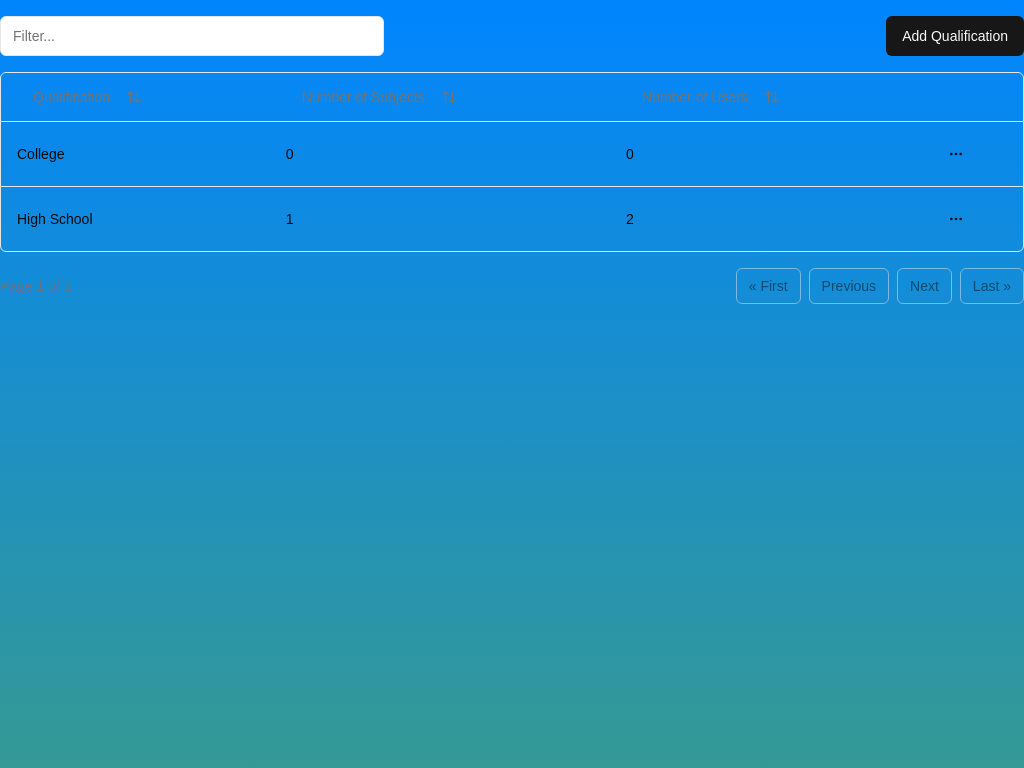
Test: Qualification Data Table › opens add qualification dialog on button click
Click the button "Add Qualification". click: [955, 36]
box: [886,16,1023,56]
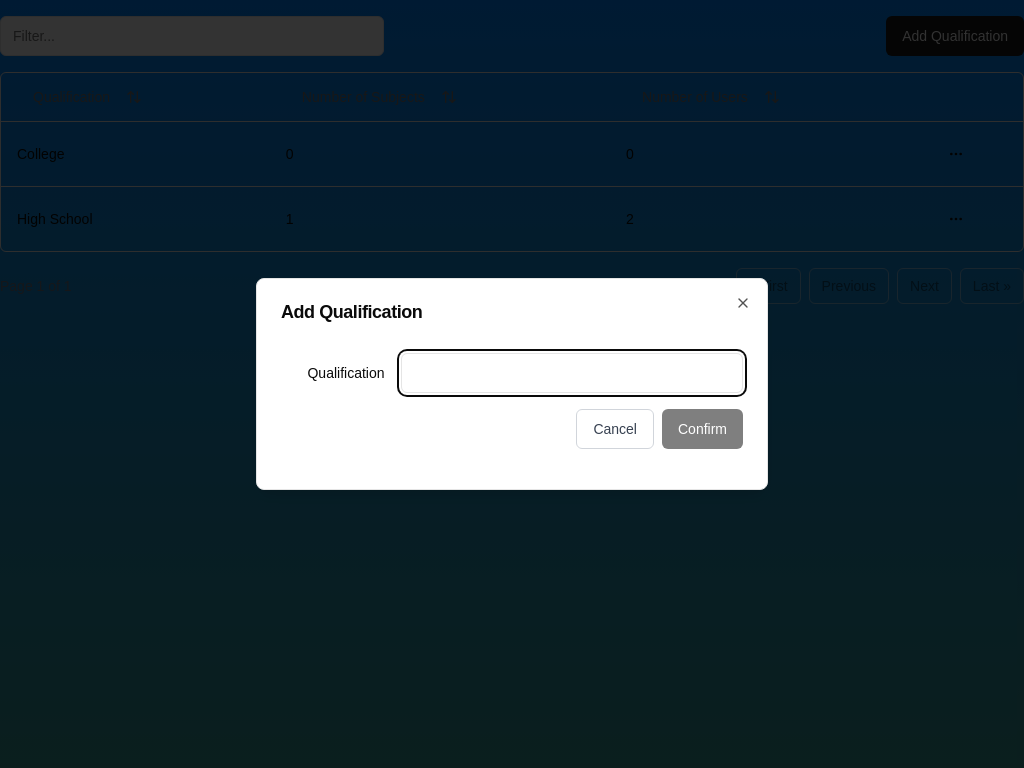
Expected: the heading "Add Qualification" is shown, [281,302,422,322]
Expected: the field labelled "Qualification" is shown, [400,353,743,393]
